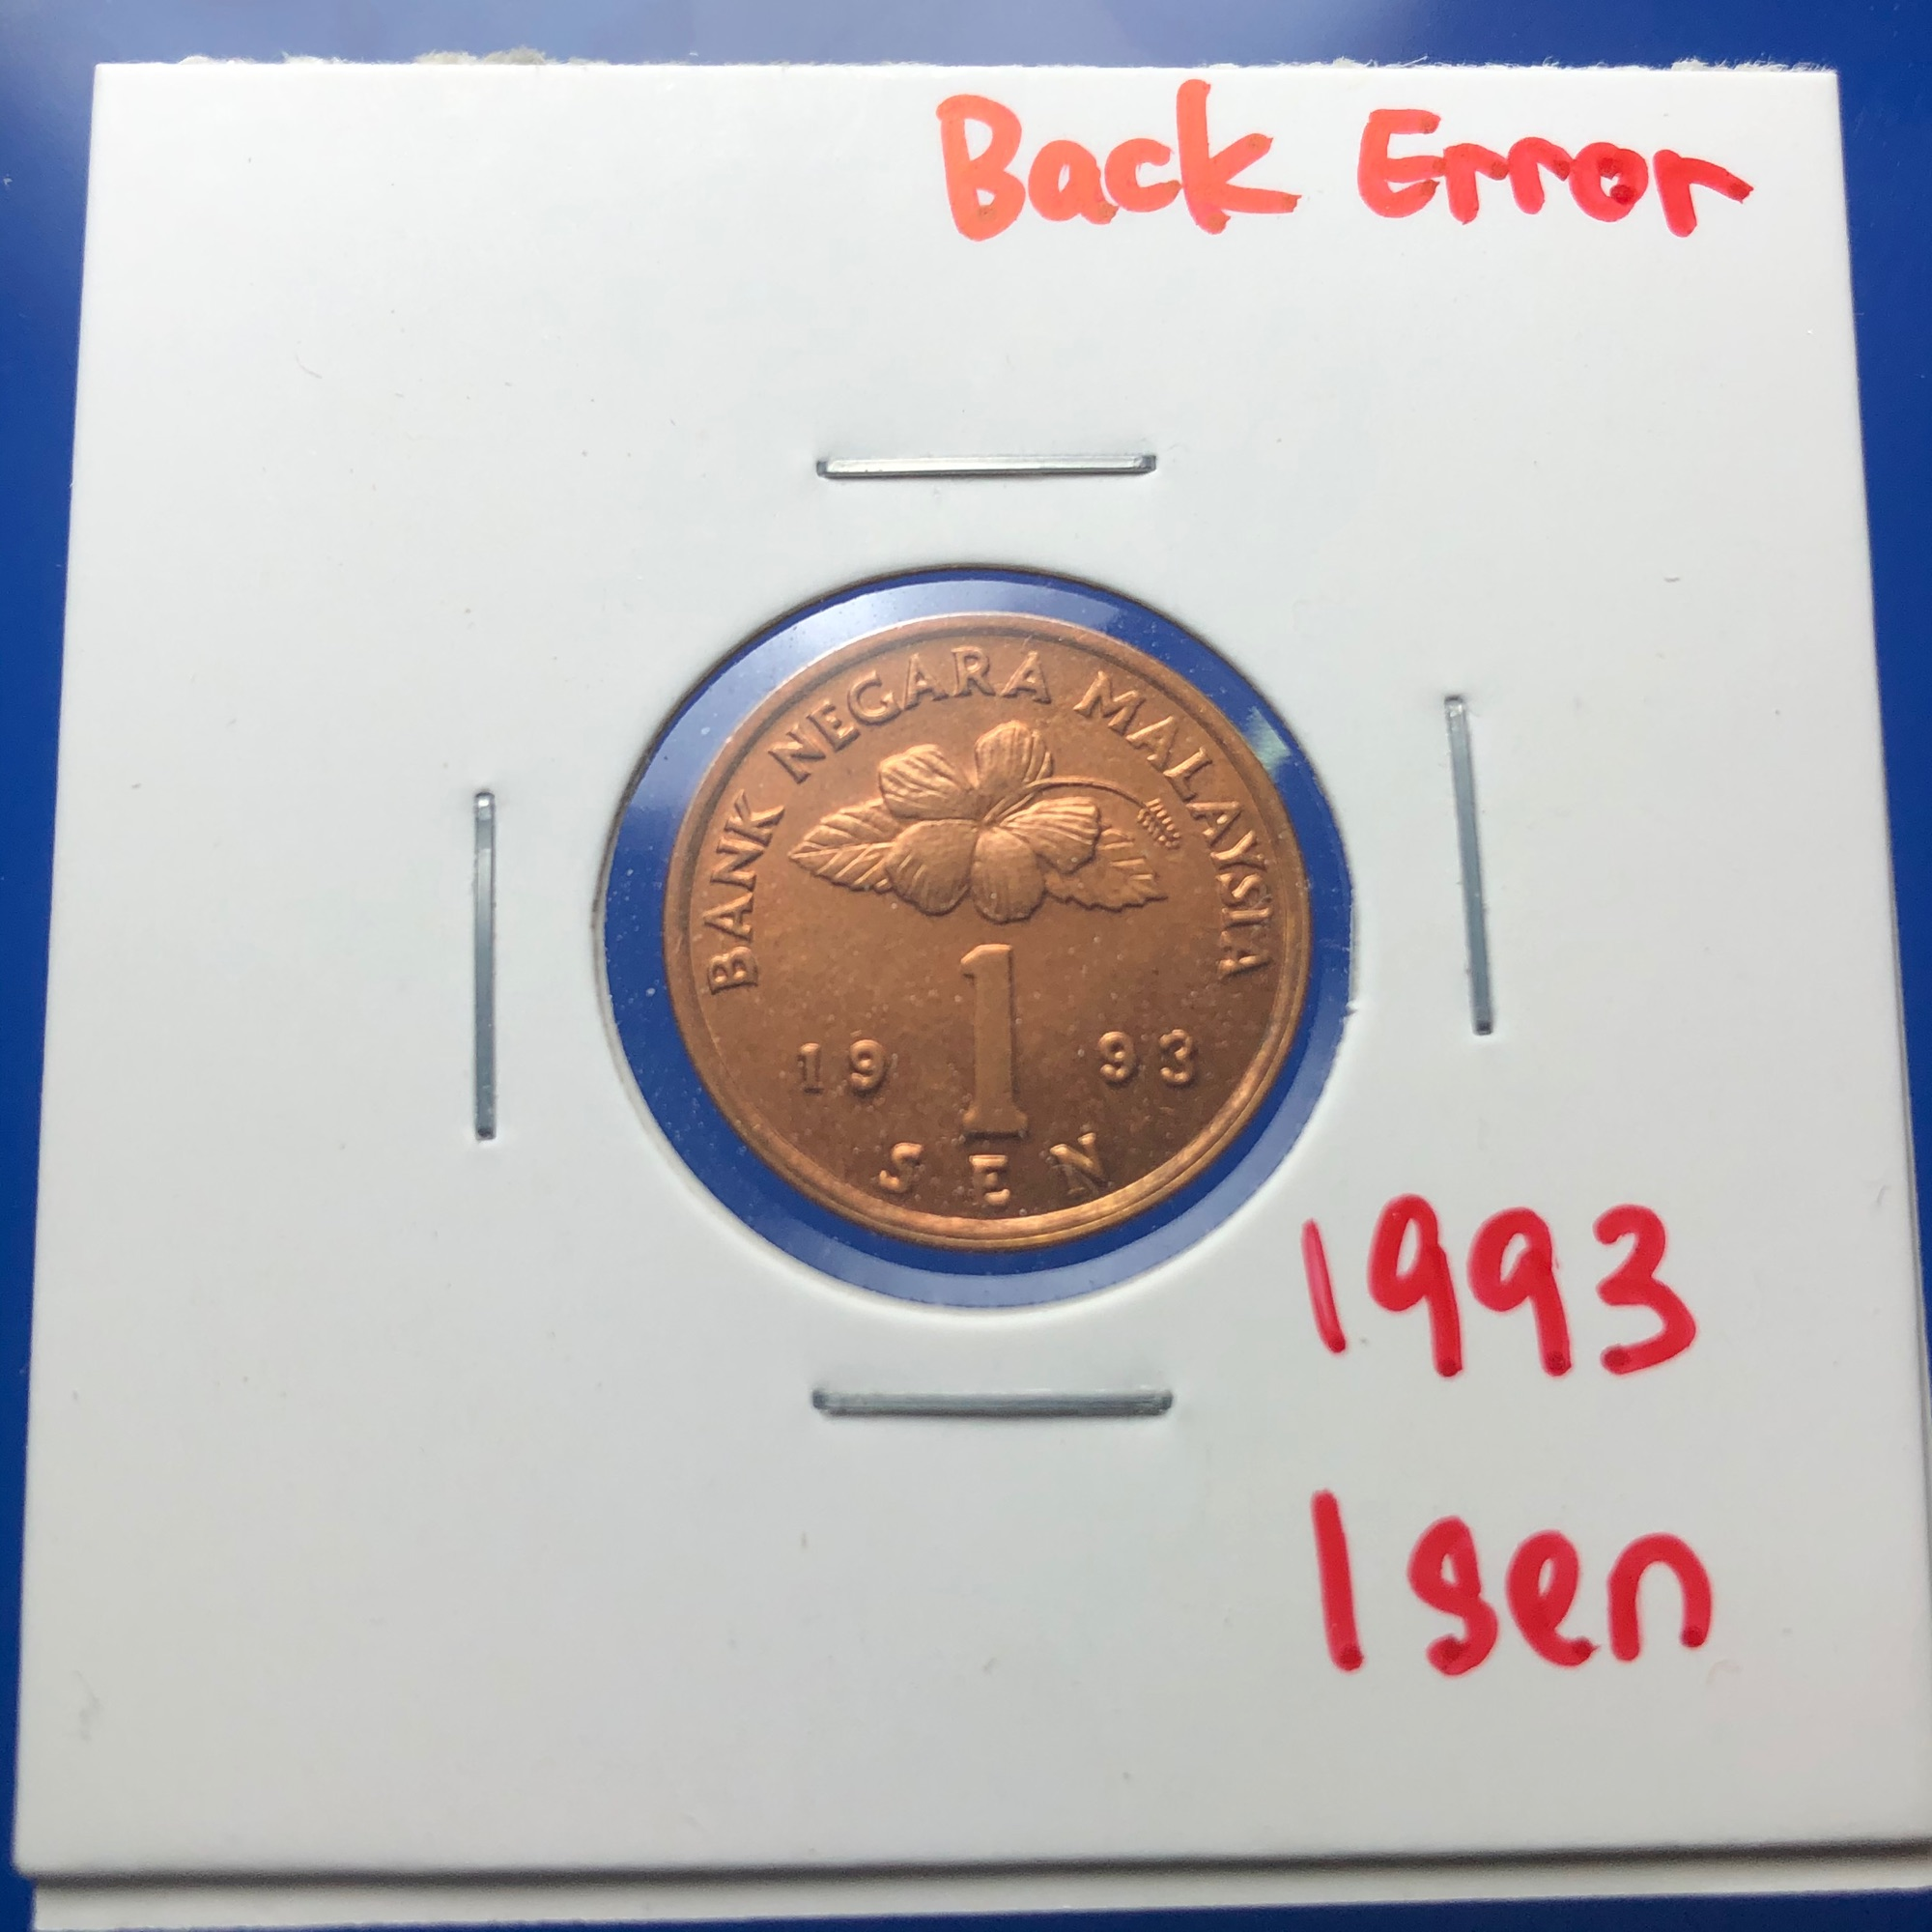1c: (655, 609, 1315, 1258)
